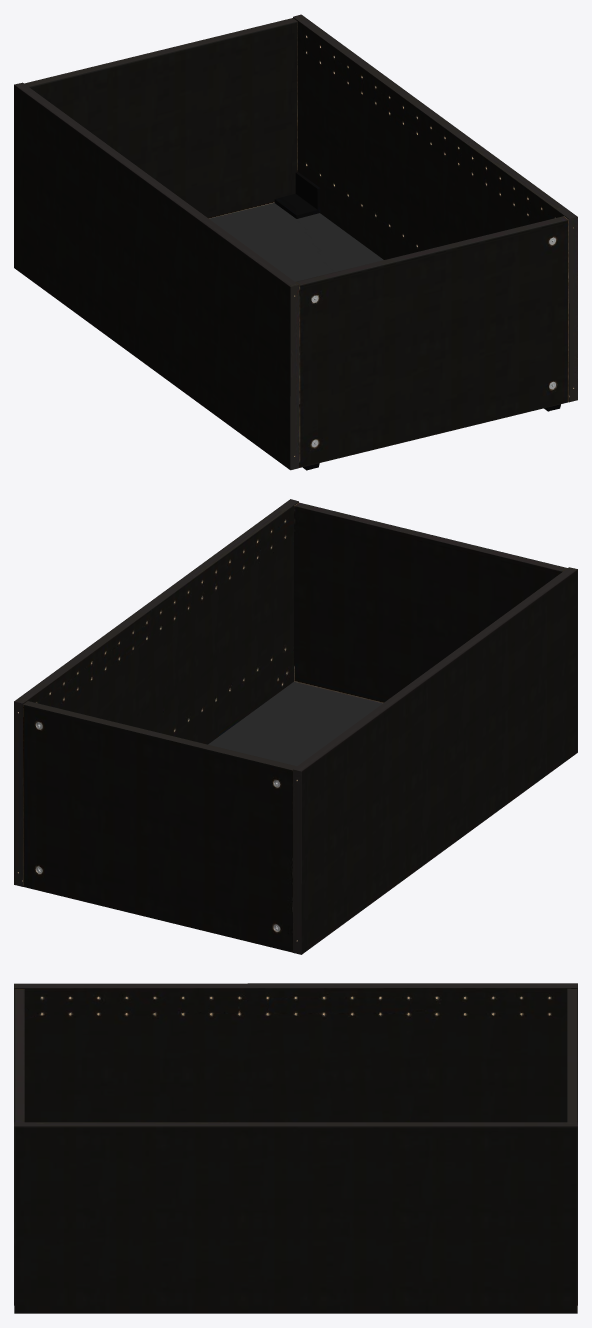
Rendered from metod_safka_scienna_80591715.glb.
The picture shows the model from 3 angles, top to bottom: view 1: azimuth 30°, elevation 25°; view 2: azimuth 150°, elevation 25°; view 3: azimuth 270°, elevation 25°; orthographic projection.
Parts seen in each view (by area): view 1: metod_safka_scienna_80591715; view 2: metod_safka_scienna_80591715; view 3: metod_safka_scienna_80591715.
Boxes of the visible parts, x1,y1,x2,y2 form: metod_safka_scienna_80591715: [14, 14, 577, 470]; metod_safka_scienna_80591715: [14, 499, 577, 954]; metod_safka_scienna_80591715: [14, 983, 577, 1313].
Bounding box in the file's own units: 0.6 × 0.3759 × 1.
Materials: 1 (1 with a texture image).
